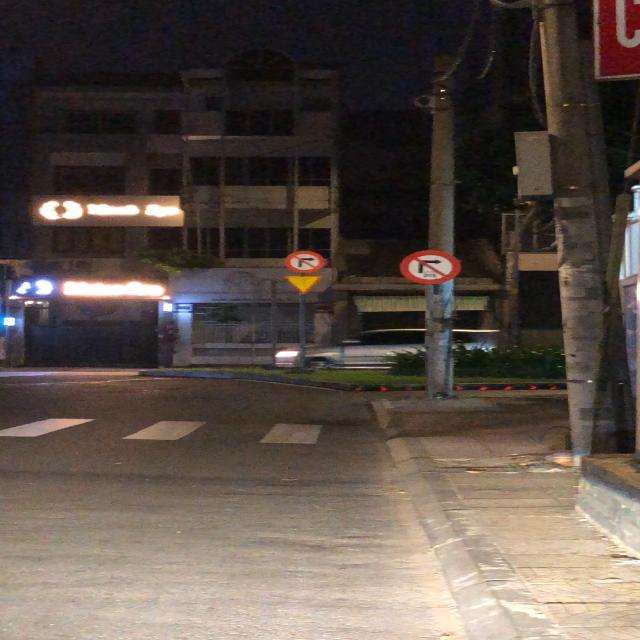Bien bao cam re phai: (283, 248, 326, 274)
Bien bao cam xe o to re phai: (398, 248, 464, 285)
Bien bao giao nhau voi duong uu tien: (280, 274, 325, 297)
